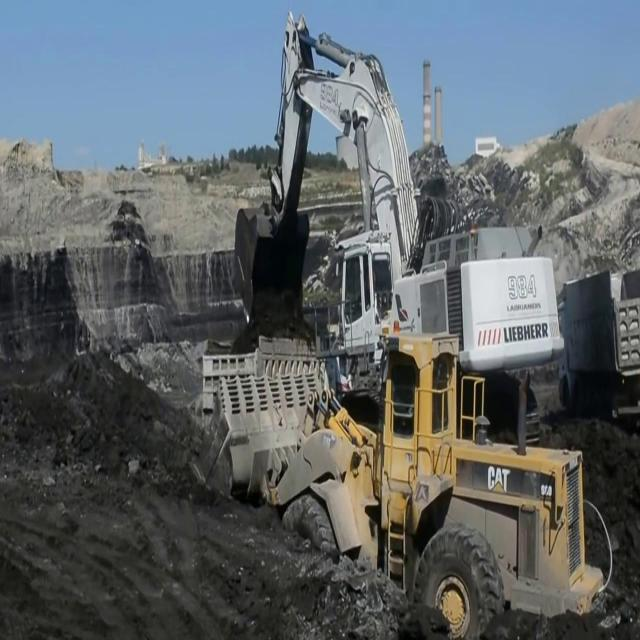Dump Truck: (560, 266, 640, 418)
Excavator: (226, 0, 563, 381)
Loader: (195, 324, 620, 633)
